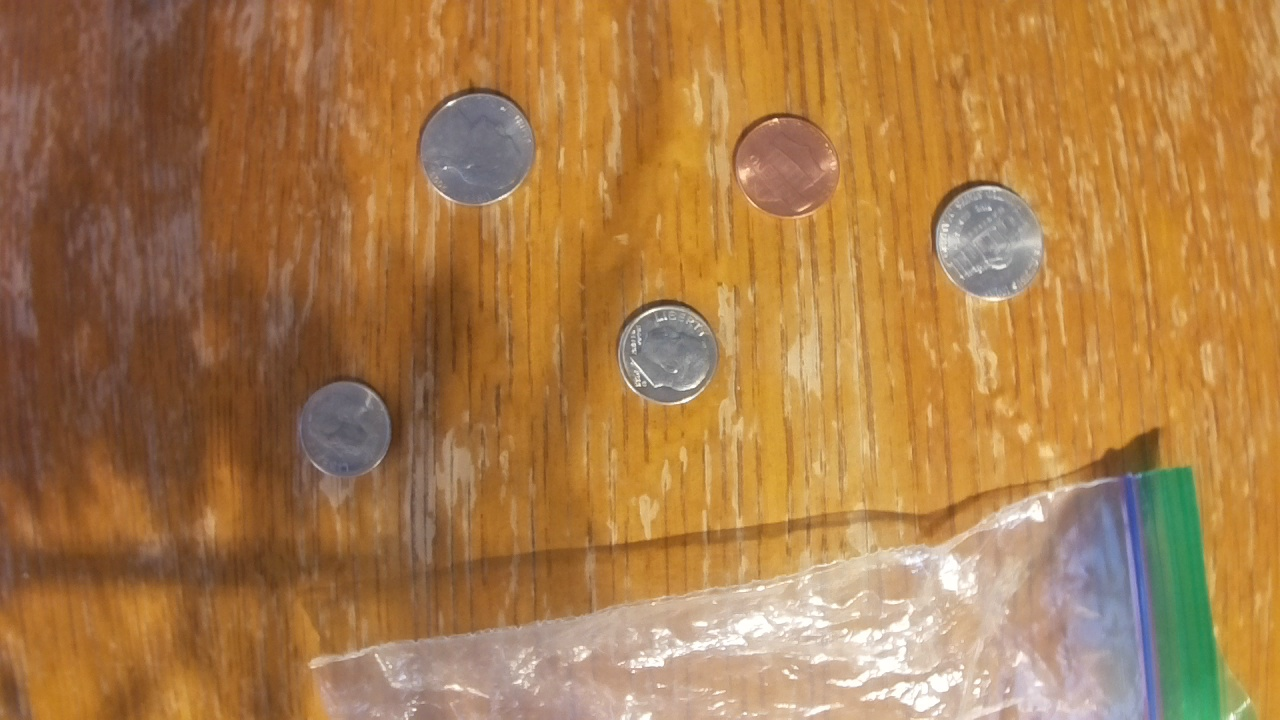dime: (618, 300, 718, 406), (297, 376, 393, 482)
nickel: (414, 86, 540, 210), (926, 182, 1052, 304)
penny: (734, 112, 838, 216)
